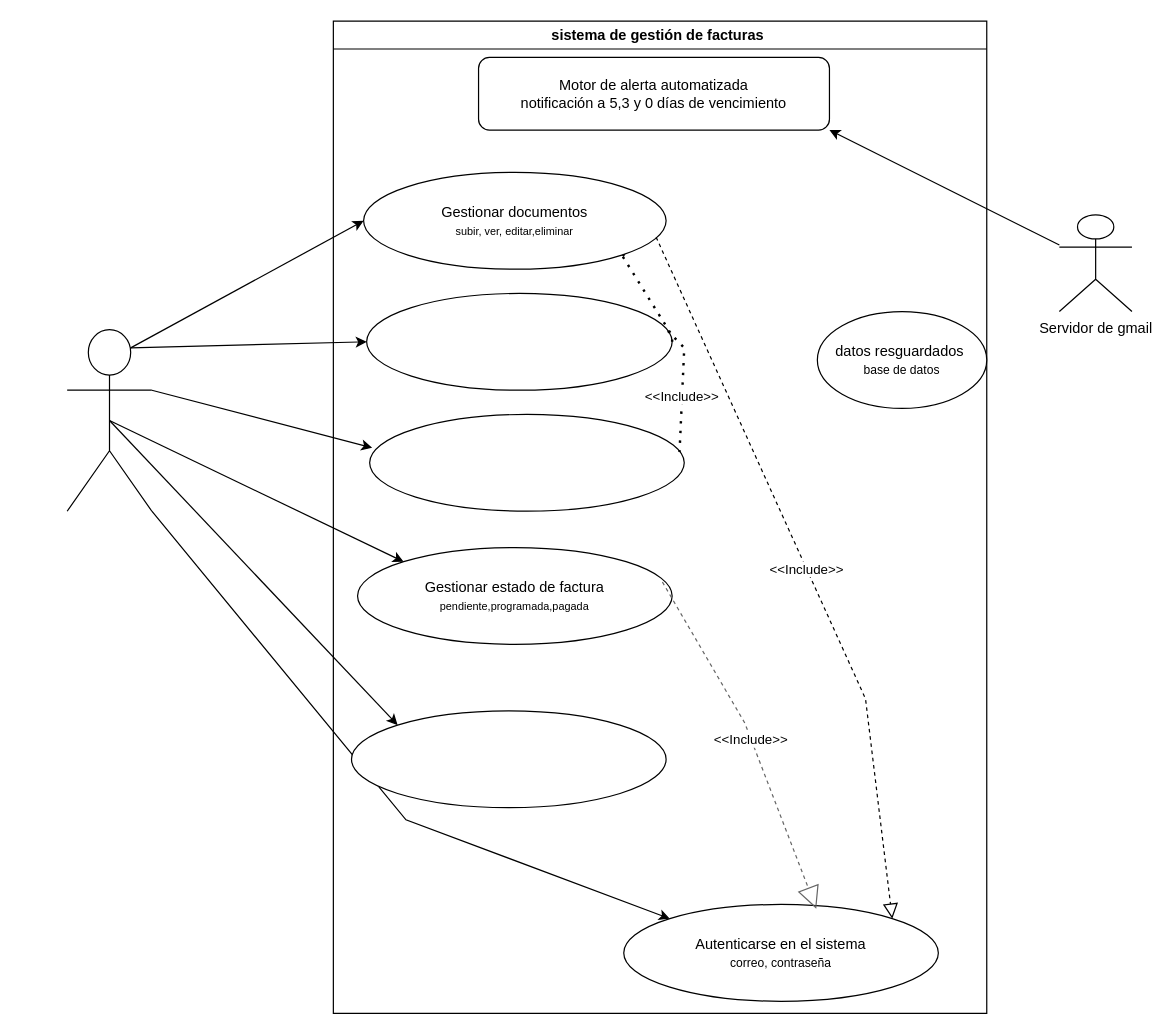
Some shapes in this 1172 by 1035 pixel diagram are drawn without their labels. The centre of each missing label's shape, as x and y in pixels:
Buscar Documento por folio o proveedor: [526,462]
Personal Administrativo: [109,420]
Registrar daros del documento folio, emisor, monto, fecha: [518,341]
visualización de factura pendiente,programada,pagada: [508,759]
